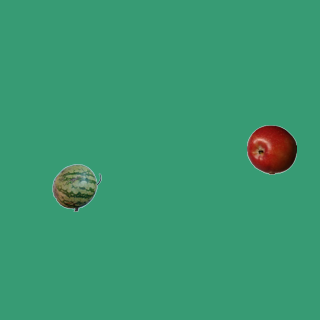Apple Braeburn: (246, 124, 296, 174)
Watermelon: (51, 162, 101, 212)
